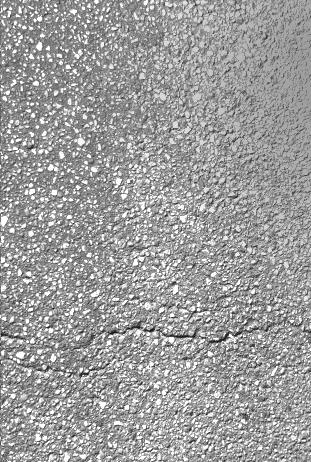crack: (2, 319, 311, 376)
